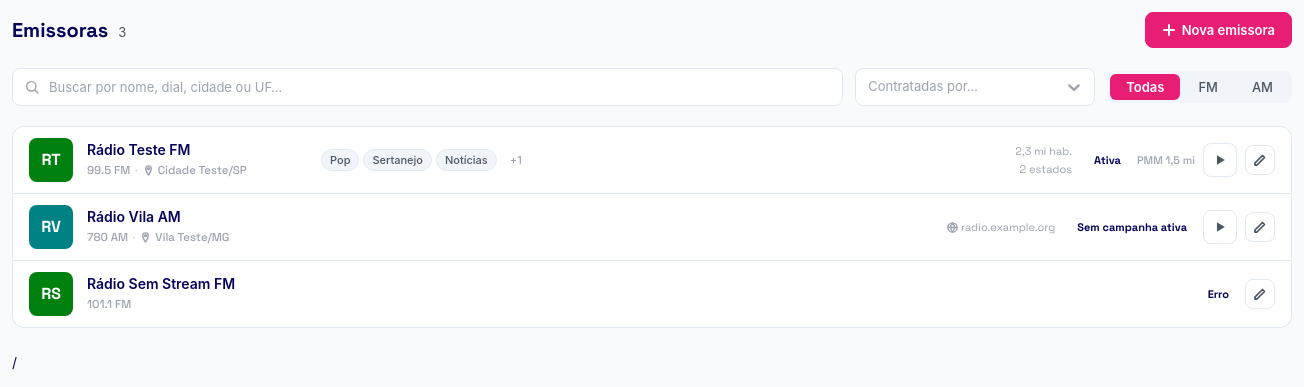
StationsPage › admin escolhe um cliente: lista só as contratadas por ele e libera exportar
Expected: the text "Rádio Teste FM" is shown, [87,142,190,158]
Focus the 2nd dropdown at [868, 87], box [866,77,870,97]
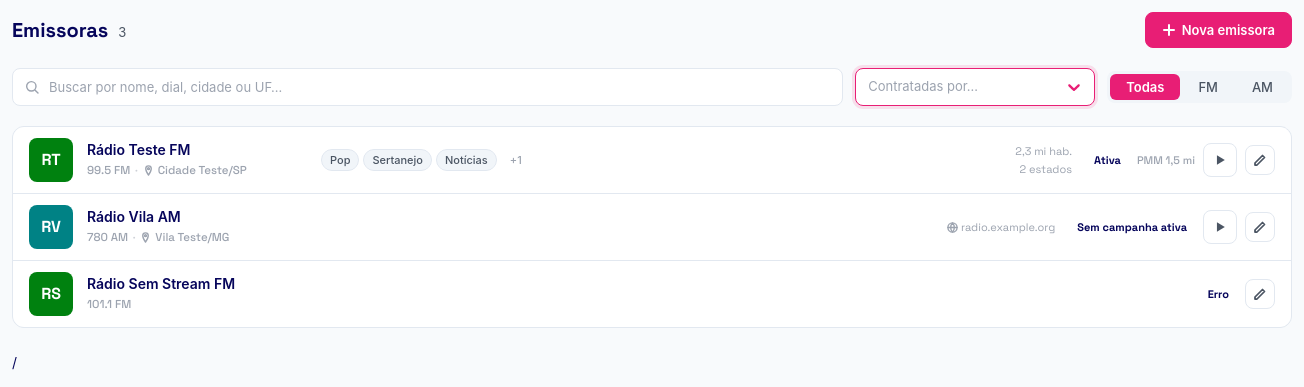
Press ArrowDown in the 2nd dropdown, box [866,77,870,97]
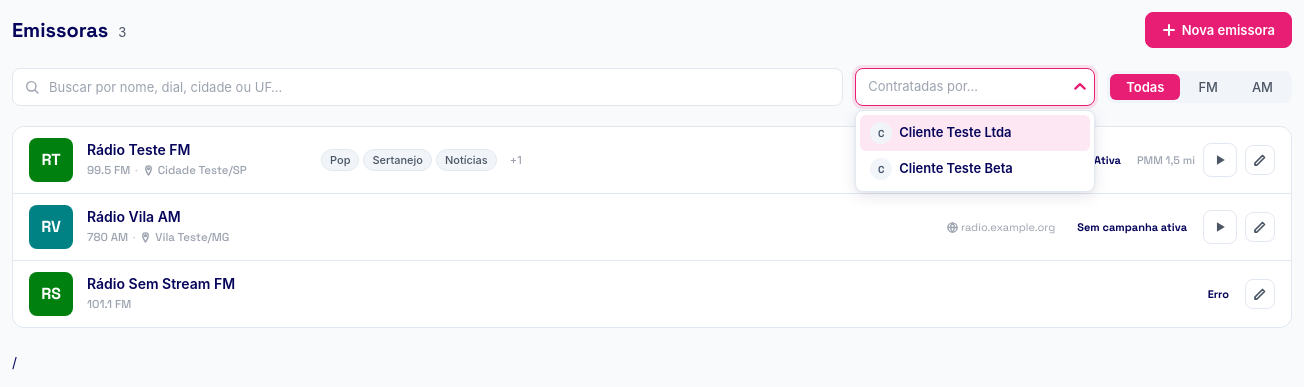
Click the option "C Cliente Teste Beta" at [942, 169], box [870,158,1013,180]
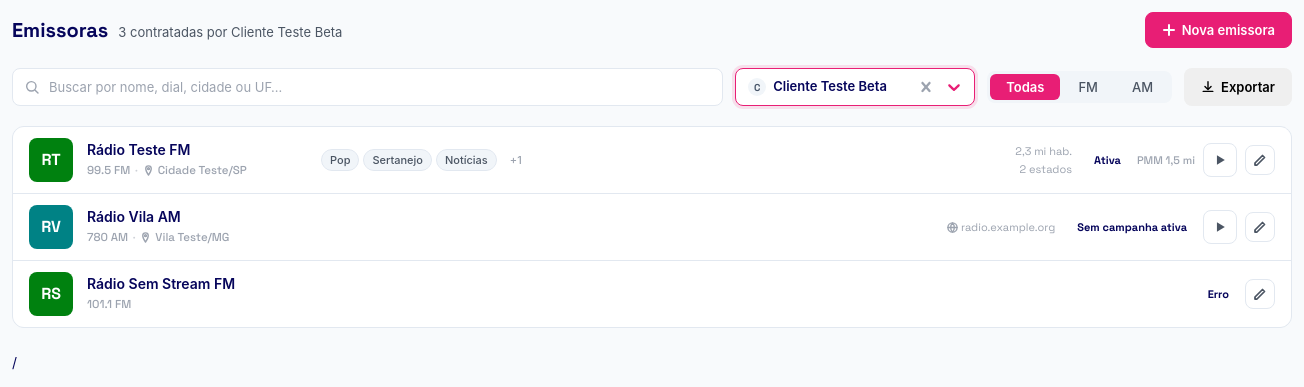
Result: the text "contratadas por Cliente Teste Beta" is shown at [126,24,342,40]
Click the button "Exportar" at [1238, 87], box [1184,68,1292,106]
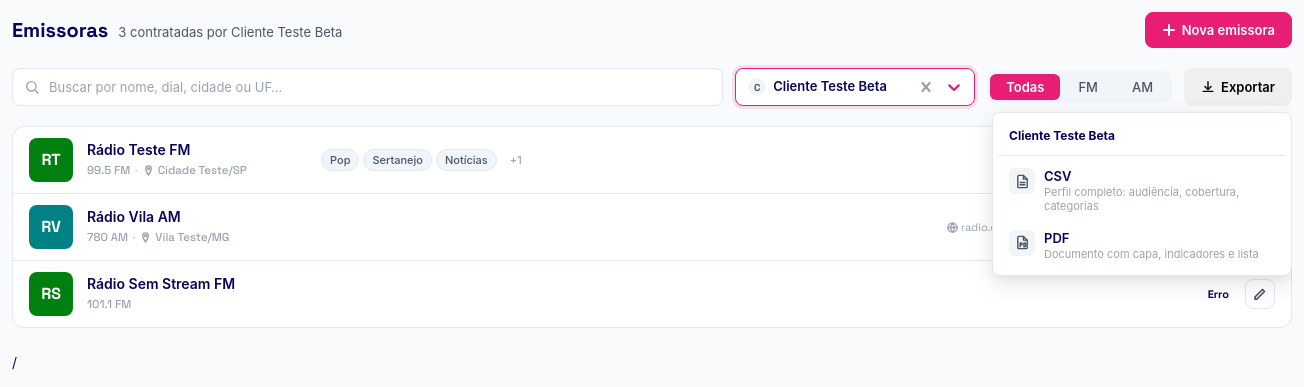
Result: the menu is shown at [992,112,1292,276]
Result: the menu shows "Cliente Teste Beta" at [1009,128,1115,143]
